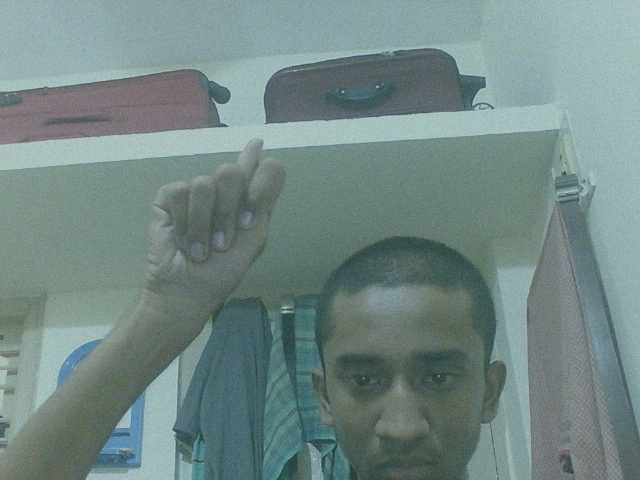hand: (131, 136, 292, 329)
